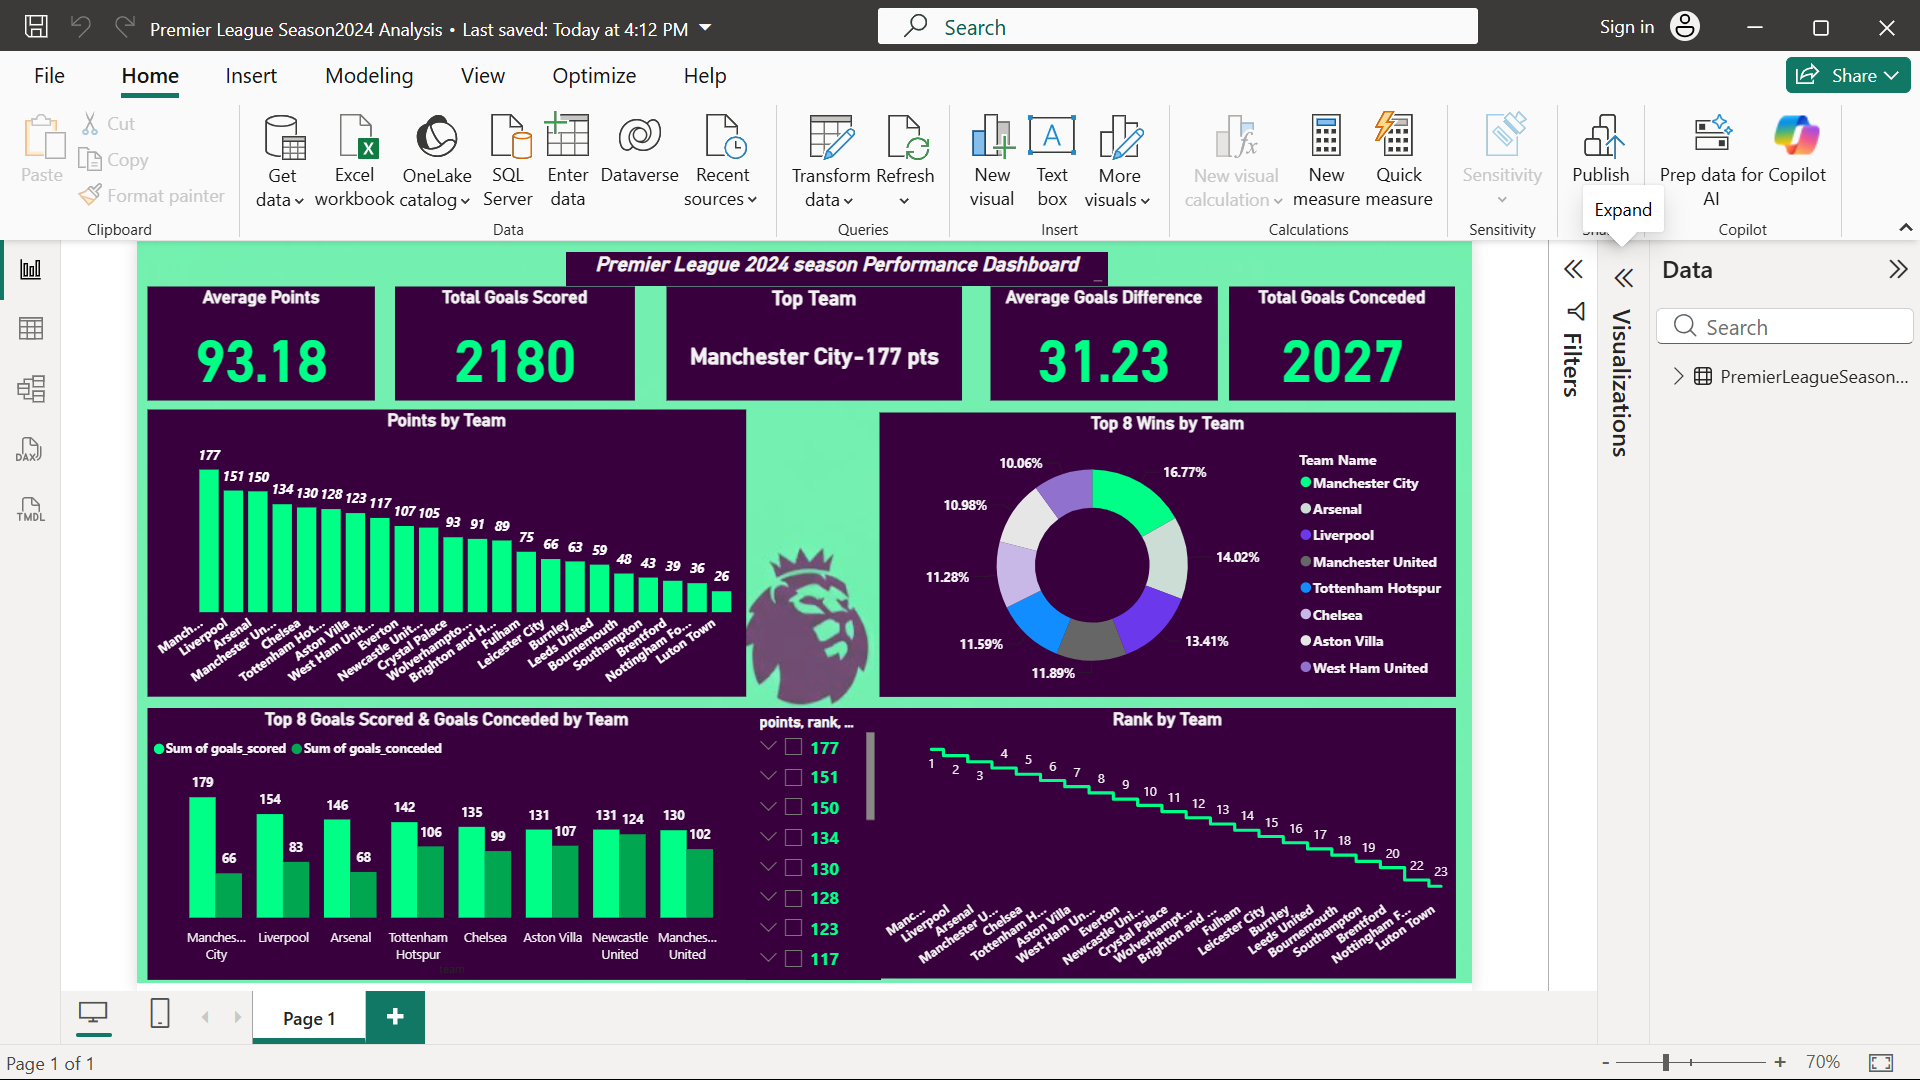

The dashboard page shown, as its layout file describes it:
{"tool":"powerbi","page":{"name":"Page 1","canvas":[1280,720],"ordinal":0},"visuals":[{"type":"columnChart","title":"Points by Team","fields":{"Category":["PremierLeagueSeason2024.team"],"Y":["Sum(PremierLeagueSeason2024.points)"]},"box":[9.5,163.1,573.8,275],"z":0},{"type":"donutChart","title":"Top 8  Wins by Team","fields":{"Y":["Sum(PremierLeagueSeason2024.wins)"],"Category":["PremierLeagueSeason2024.team"]},"box":[711.9,165.5,552.4,272.6],"z":1000},{"type":"clusteredColumnChart","title":"Top 8 Goals Scored & Goals Conceded by Team","fields":{"Category":["PremierLeagueSeason2024.team"],"Y":["Sum(PremierLeagueSeason2024.goals_scored)","Sum(PremierLeagueSeason2024.goals_conceded)"]},"box":[9.5,448.8,573.8,260.7],"z":2000},{"type":"lineChart","title":"Rank by Team","fields":{"Category":["PremierLeagueSeason2024.team"],"Y":["Sum(PremierLeagueSeason2024.rank)"]},"box":[711.9,448.8,552.4,259.5],"z":3000},{"type":"textbox","title":"Premier League 2024 season Performance Dashboard","box":[410.7,11.9,519,32.1],"z":4000},{"type":"card","title":"Top Team","fields":{"Values":["PremierLeagueSeason2024.Top team"]},"box":[508.3,44,283.3,109.5],"z":5000},{"type":"card","title":"Total Goals Scored","fields":{"Values":["Sum(PremierLeagueSeason2024.goals_scored)"]},"box":[247.6,44,229.8,109.5],"z":6000},{"type":"card","title":"Total Goals Conceded","fields":{"Values":["Sum(PremierLeagueSeason2024.goals_conceded)"]},"box":[1047.6,44,216.7,109.5],"z":7000},{"type":"card","title":"Average Goals Difference","fields":{"Values":["PremierLeagueSeason2024.Avearage Goals difference"]},"box":[817.9,44,217.9,109.5],"z":8000},{"type":"card","title":"Average Points","fields":{"Values":["PremierLeagueSeason2024.Average points"]},"box":[9.5,44,217.9,109.5],"z":9000},{"type":"slicer","fields":{"Values":["PremierLeagueSeason2024.points","PremierLeagueSeason2024.rank","PremierLeagueSeason2024.wins","PremierLeagueSeason2024.goals_scored"]},"box":[583.3,448.8,128.6,260.7],"z":10000}]}

Visuals, with their boxes on the page's 1280x720 design canvas (x1, y1, x2, y2). These are canvas units, not pixel positions in the 1920x1080 screenshot, which may show the page scaled, cropped or inside an application window:
"Points by Team" columnChart: x1=10 y1=163 x2=583 y2=438
"Top 8  Wins by Team" donutChart: x1=712 y1=166 x2=1264 y2=438
"Top 8 Goals Scored & Goals Conceded by Team" clusteredColumnChart: x1=10 y1=449 x2=583 y2=710
"Rank by Team" lineChart: x1=712 y1=449 x2=1264 y2=708
"Premier League 2024 season Performance Dashboard" textbox: x1=411 y1=12 x2=930 y2=44
"Top Team" card: x1=508 y1=44 x2=792 y2=154
"Total Goals Scored" card: x1=248 y1=44 x2=477 y2=154
"Total Goals Conceded" card: x1=1048 y1=44 x2=1264 y2=154
"Average Goals Difference" card: x1=818 y1=44 x2=1036 y2=154
"Average Points" card: x1=10 y1=44 x2=227 y2=154
slicer - PremierLeagueSeason2024.points x PremierLeagueSeason2024.rank: x1=583 y1=449 x2=712 y2=710
